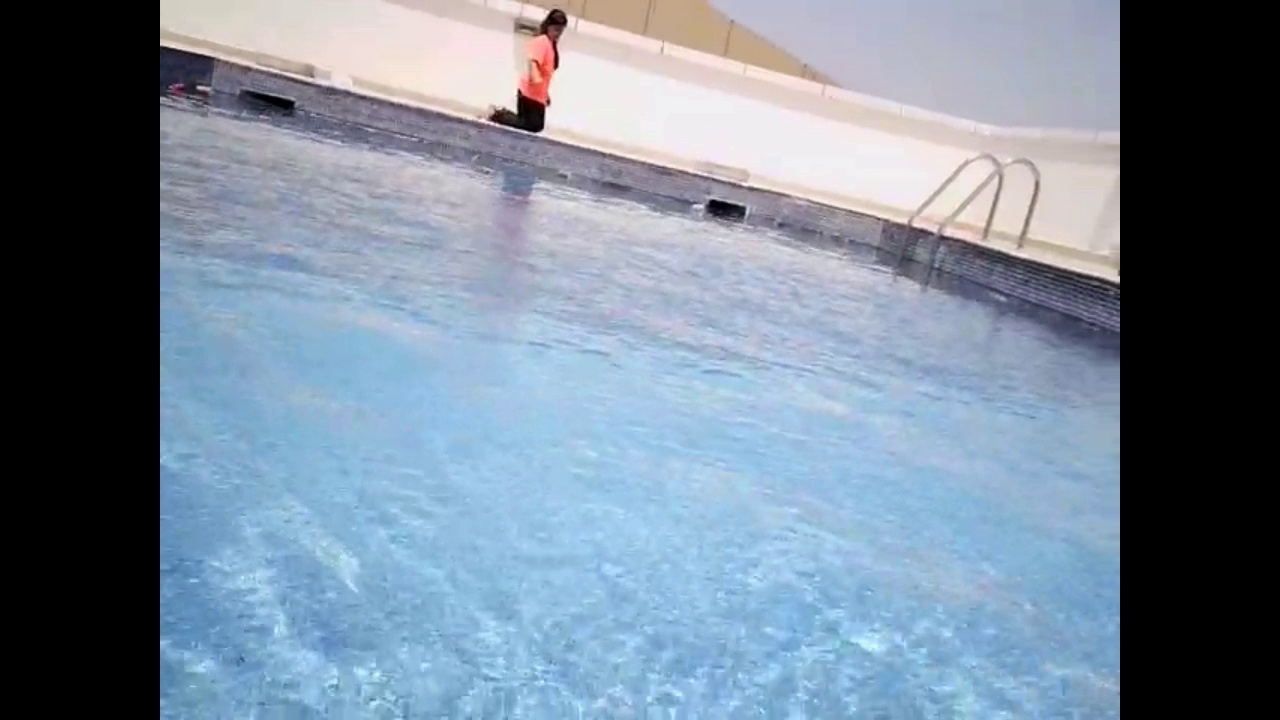debris: (686, 198, 712, 219), (192, 81, 218, 100), (163, 77, 187, 96), (551, 169, 572, 181)
